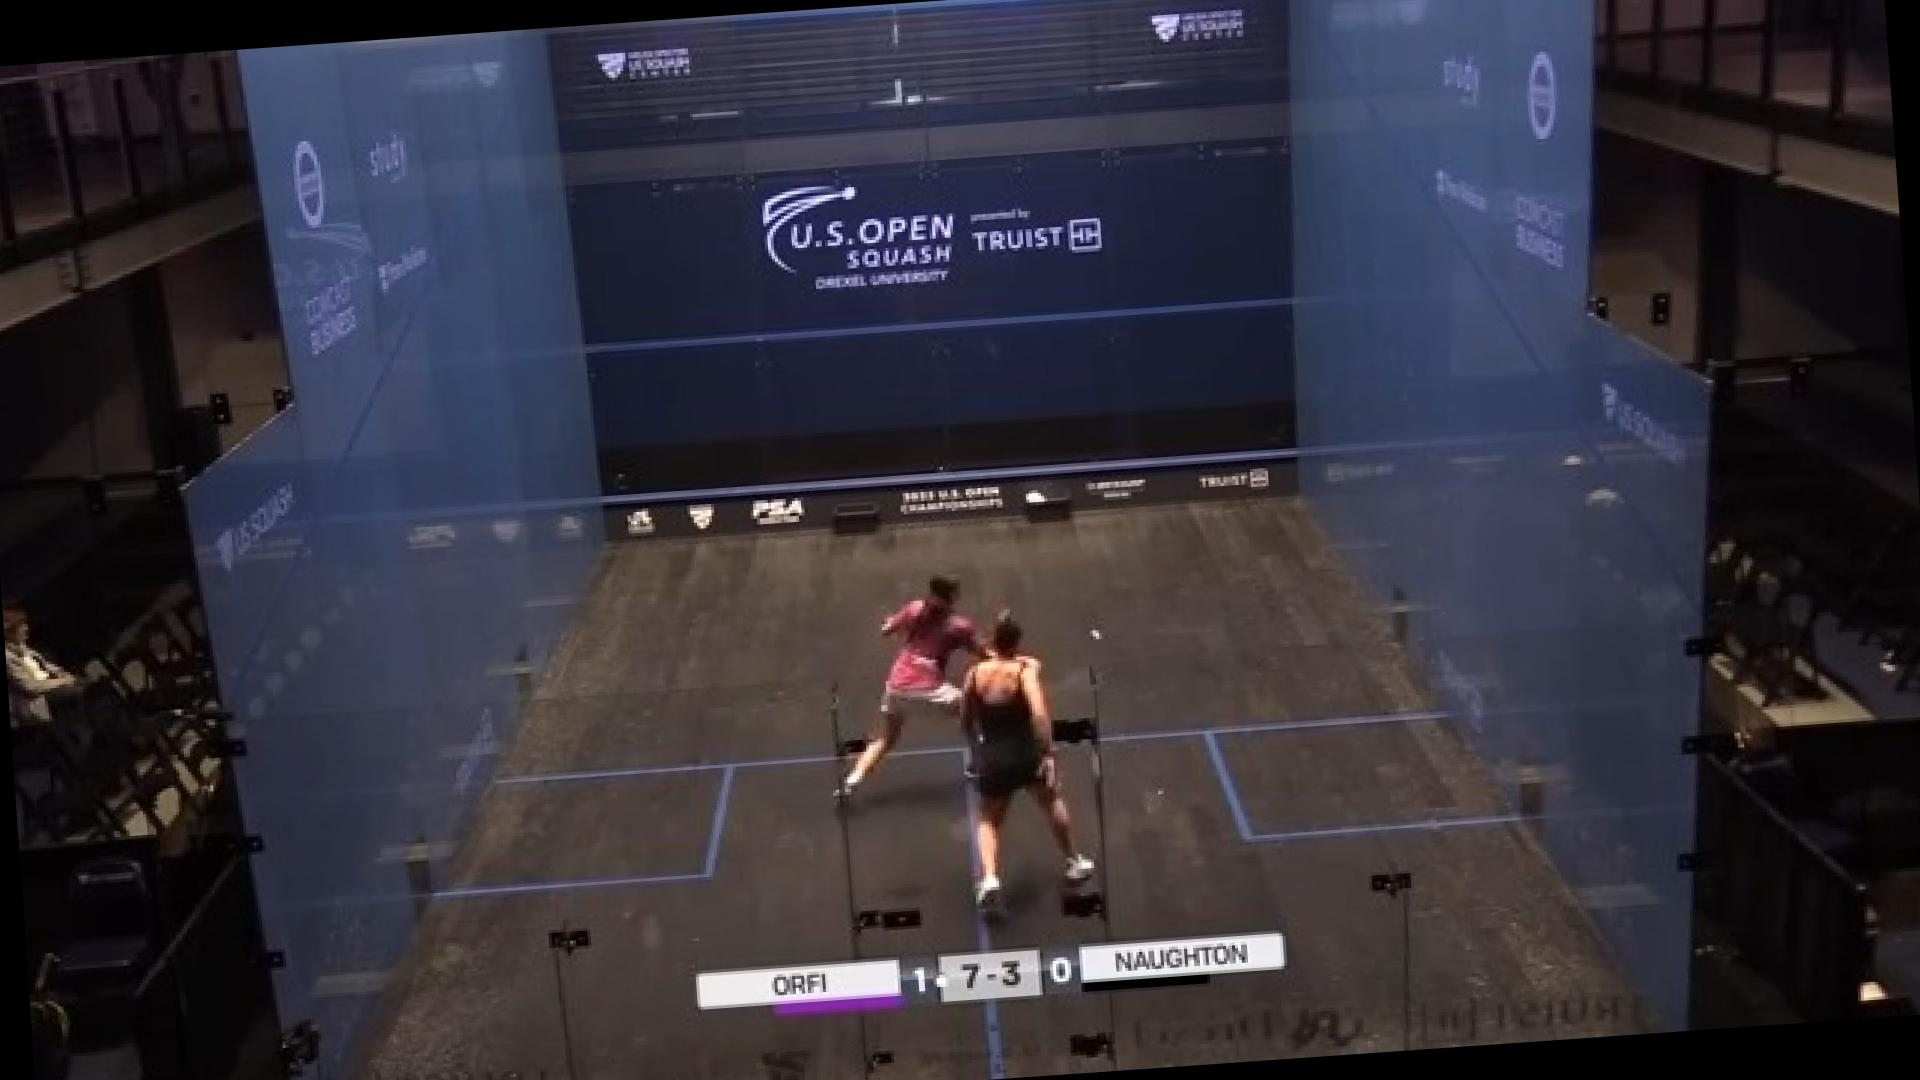Squash-Ball: (1080, 620, 1113, 654)
